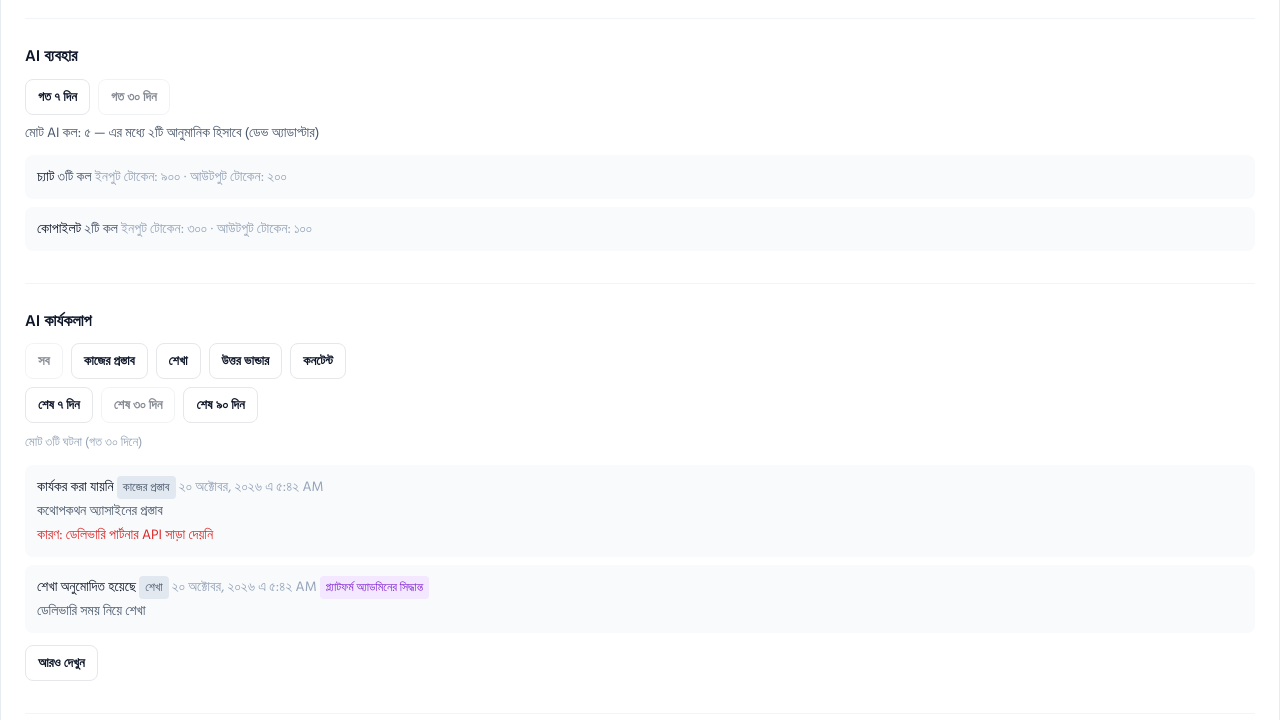
Test: AiControlCenterSection (SA-B13 W4) › SA-B25 activity feed: an admin-console learned decision carries the badge; a staff decision does not; the kind chip refetches with kind=learned
The width and height of the screenshot is (1280, 720).
(page scrolled)
Expected: the text "প্ল্যাটফর্ম অ্যাডমিনের সিদ্ধান্ত" is shown once, 320,576 -> 429,599
Click the button "শেখা": point(178, 361) 156,343 -> 200,379
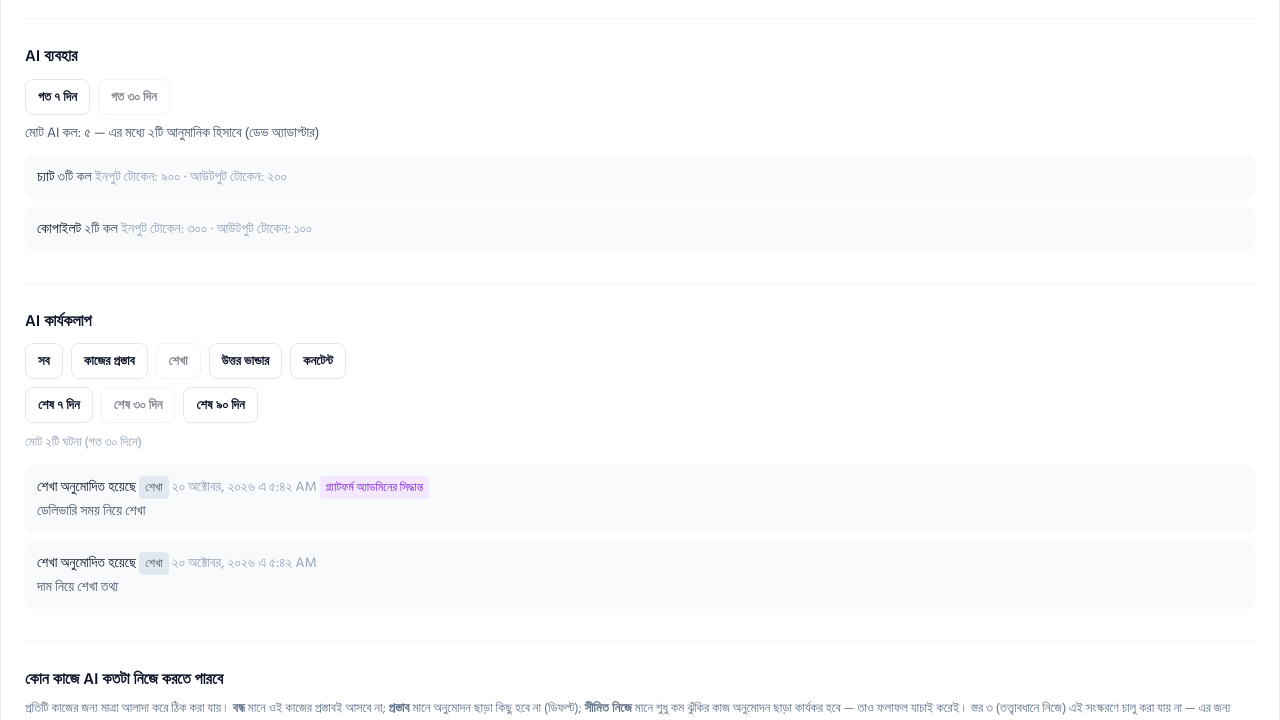
Expected: the text "প্ল্যাটফর্ম অ্যাডমিনের সিদ্ধান্ত" is shown once, 320,476 -> 429,499
Expected: the text "দাম নিয়ে শেখা তথ্য" is shown, 37,575 -> 118,598
